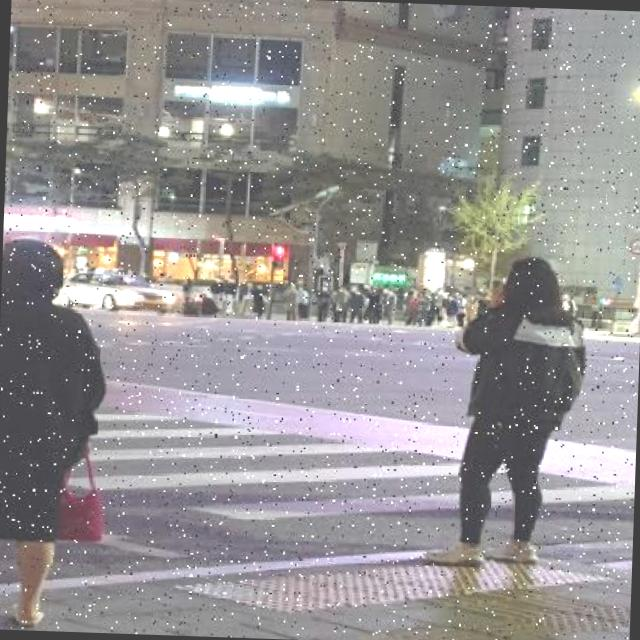Person: (422, 258, 578, 560), (0, 236, 100, 630)
